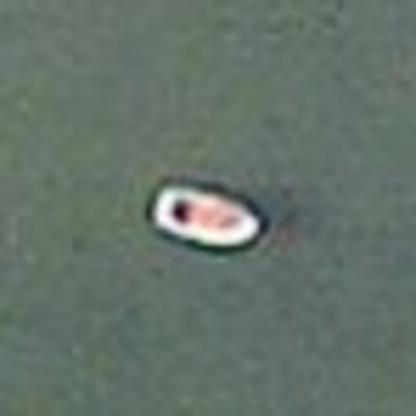ship: (136, 170, 272, 262)
